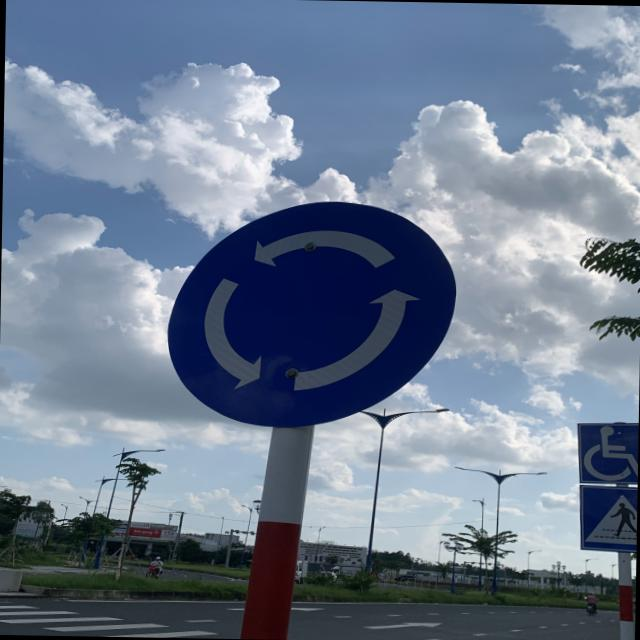Xe_Bus: (166, 197, 460, 433)
